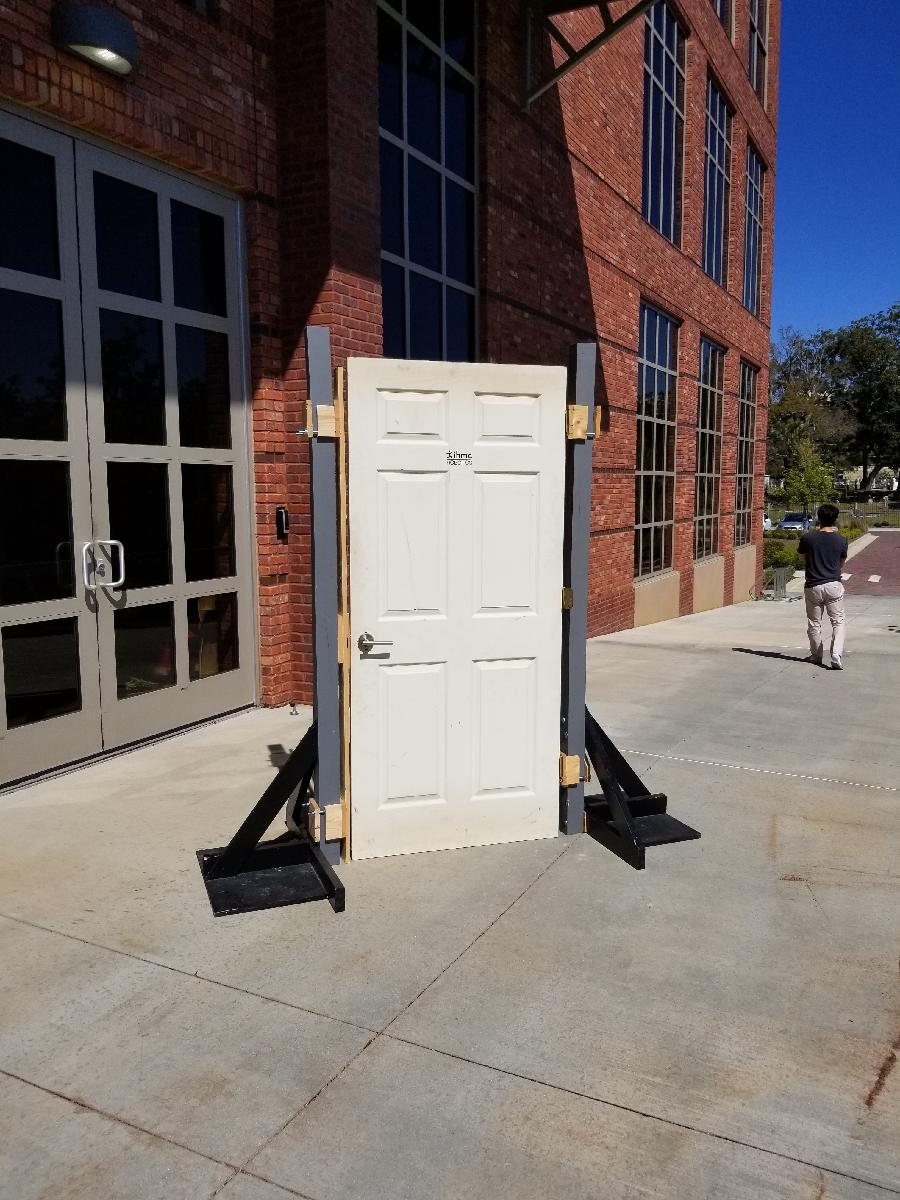door: (345, 354, 571, 871)
doorHandle: (354, 631, 404, 659)
